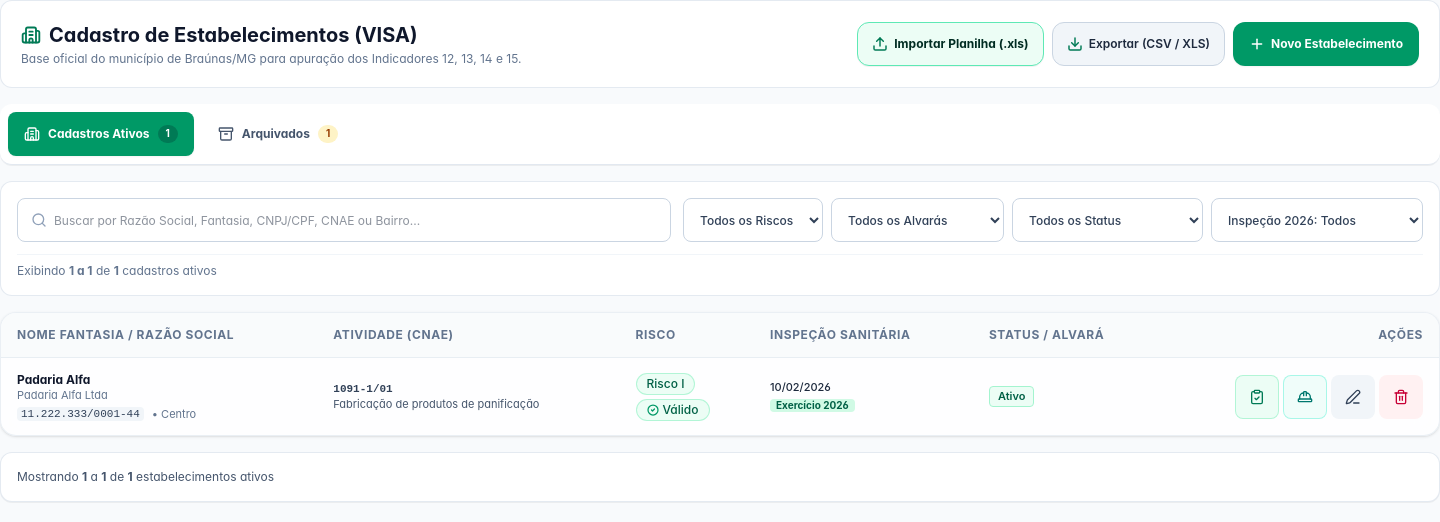
it: EstabelecimentosList - Arquivados & Exclusão em 2 Níveis › alterna para a aba Arquivados exibindo botões de Restaurar e Excluir
The width and height of the screenshot is (1440, 522).
Click the button "Arquivados 1" at (278, 134), box [202,112,354,156]
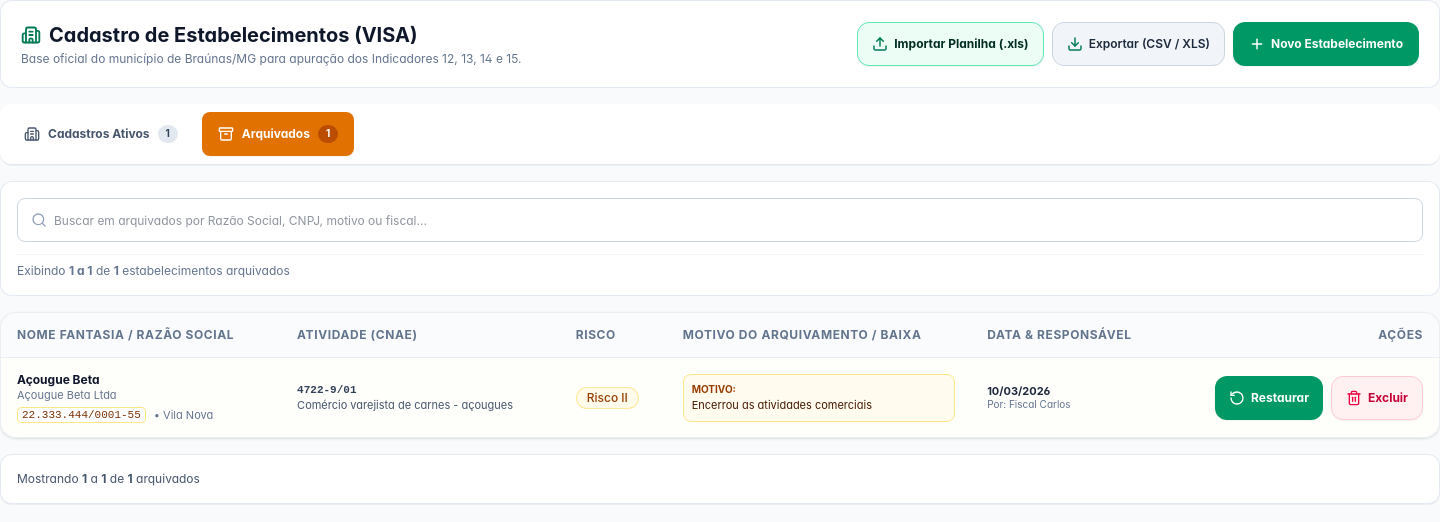
Expected: the text "Açougue Beta" is shown, [17,372,100,387]
Expected: the text "Encerrou as atividades comerciais" is shown, [692,398,872,412]
Expected: the button "Restaurar" is shown, [1215,376,1323,420]
